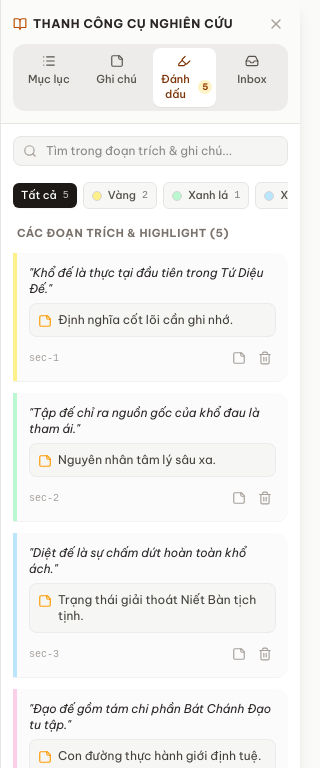
Test: Phase R3c: Reader Highlights Filtering & Quick Search (Test-First) › 5. Renders empty filtered state when no excerpts match active filters and resets filters upon clicking reset button
This screenshot has width=320, height=768.
In the field with test id "highlights-search-input": (150, 151) [13, 136, 288, 166], type "Từ khóa tuyệt đối không có"
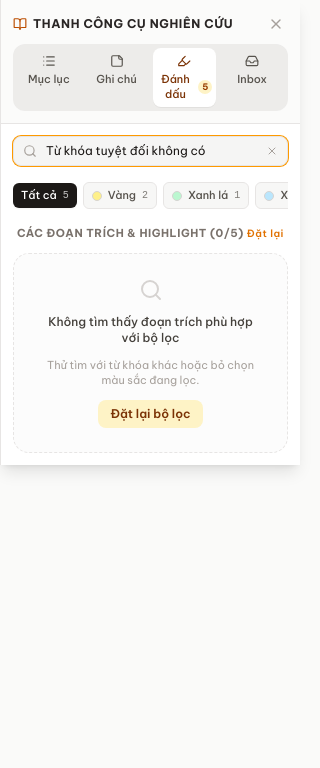
Result: the element with test id "highlights-empty-filter-state" is shown at [13, 253, 288, 453]
Result: the text "Không tìm thấy đoạn trích phù hợp với bộ lọc" is shown at [38, 314, 263, 346]
// Click "Đặt lại bộ lọc"
Click the button with test id "btn-reset-highlights-filter": (150, 414) [98, 400, 202, 428]
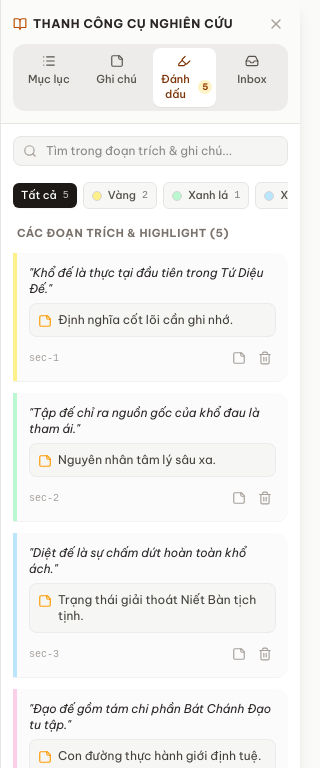
Result: the field with test id "highlights-search-input" is empty at [13, 136, 288, 166]
Result: the button with test id "excerpt-card-e-1" is shown at [13, 253, 288, 381]
Result: the button with test id "excerpt-card-e-2" is shown at [13, 393, 288, 521]
